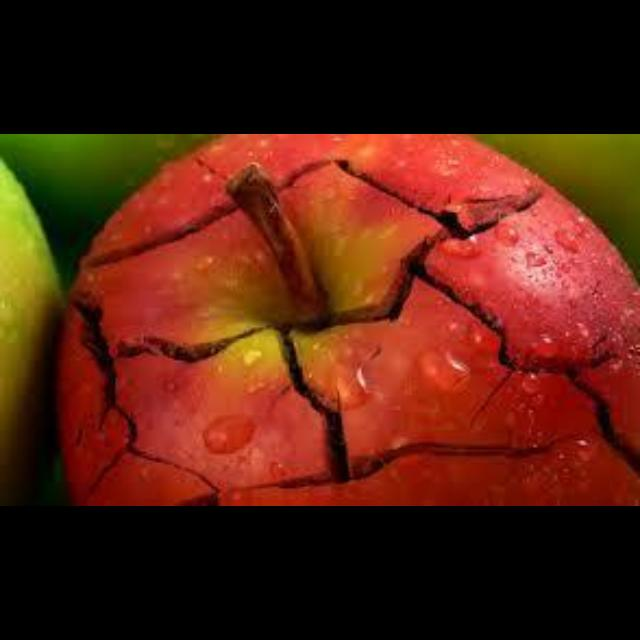apple: (59, 134, 638, 504)
